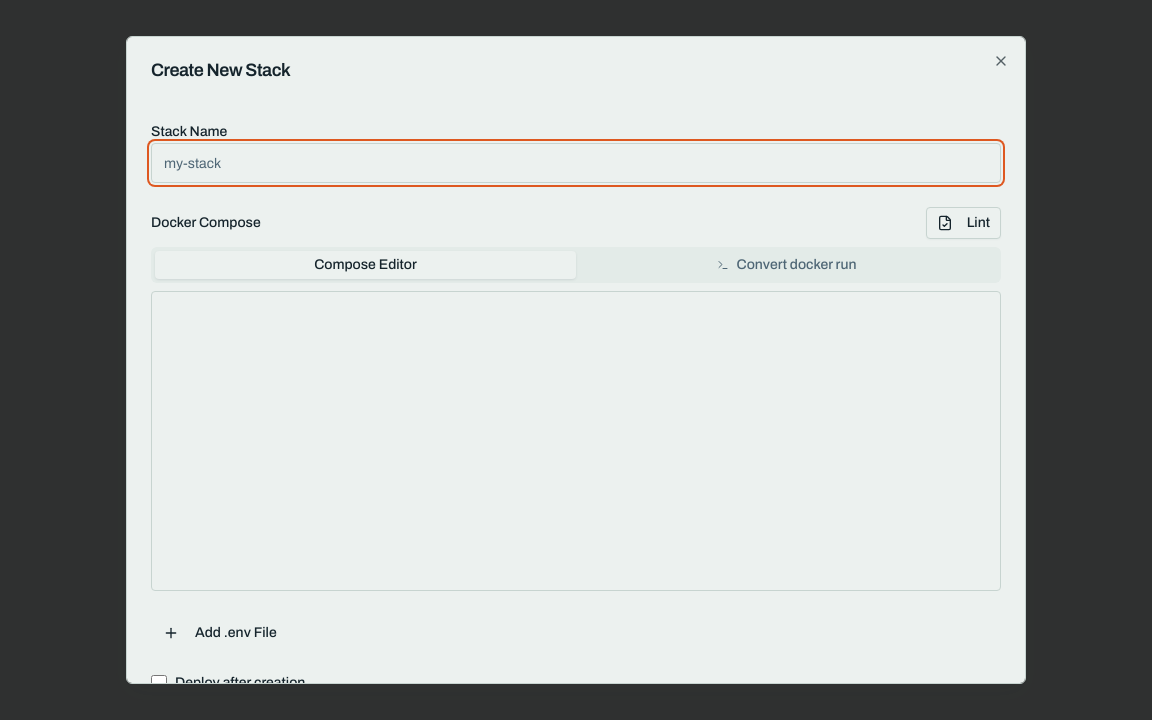
Test case: CreateStackDialog › shows an error toast and inline error count when lint finds errors
Click the button "Lint": coordinates (963, 223) [926,207,1001,239]
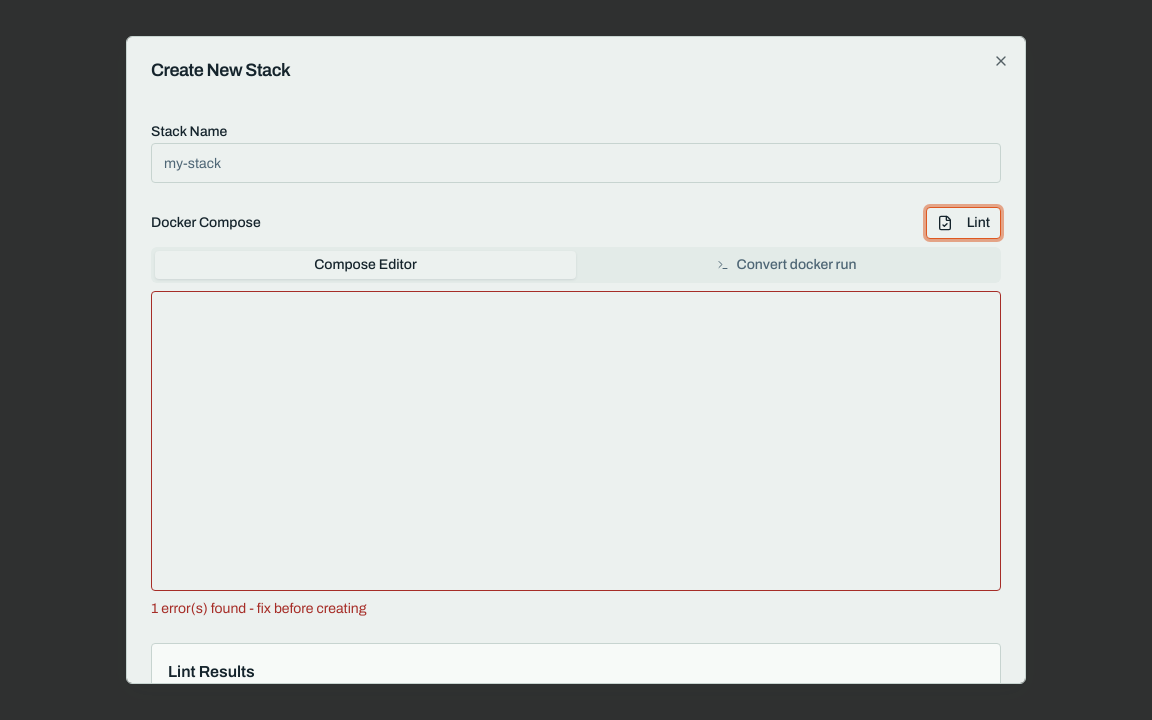
Now the text "1 error(s) found - fix before creating" is shown, box [151,601,366,616]
